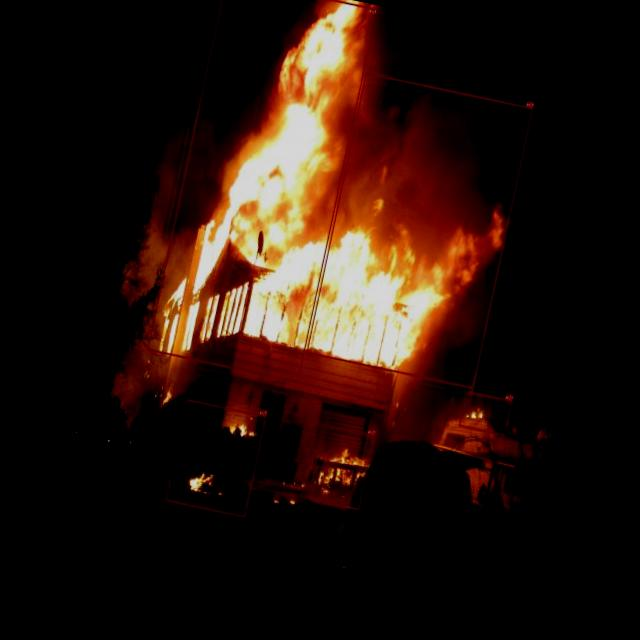fire: (147, 0, 377, 381), (306, 71, 533, 388), (165, 398, 266, 518), (308, 424, 374, 509), (459, 390, 512, 436)
